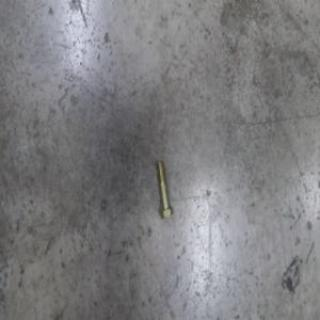Bolttrack_idkeyframe: (154, 157, 173, 218)
